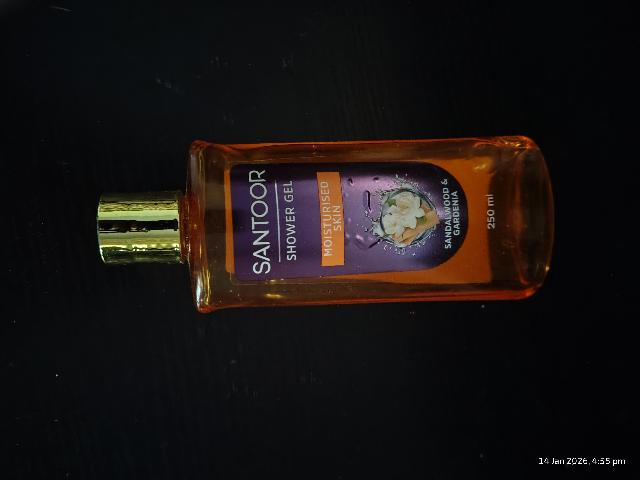santoor bodywash: (86, 131, 557, 311)
